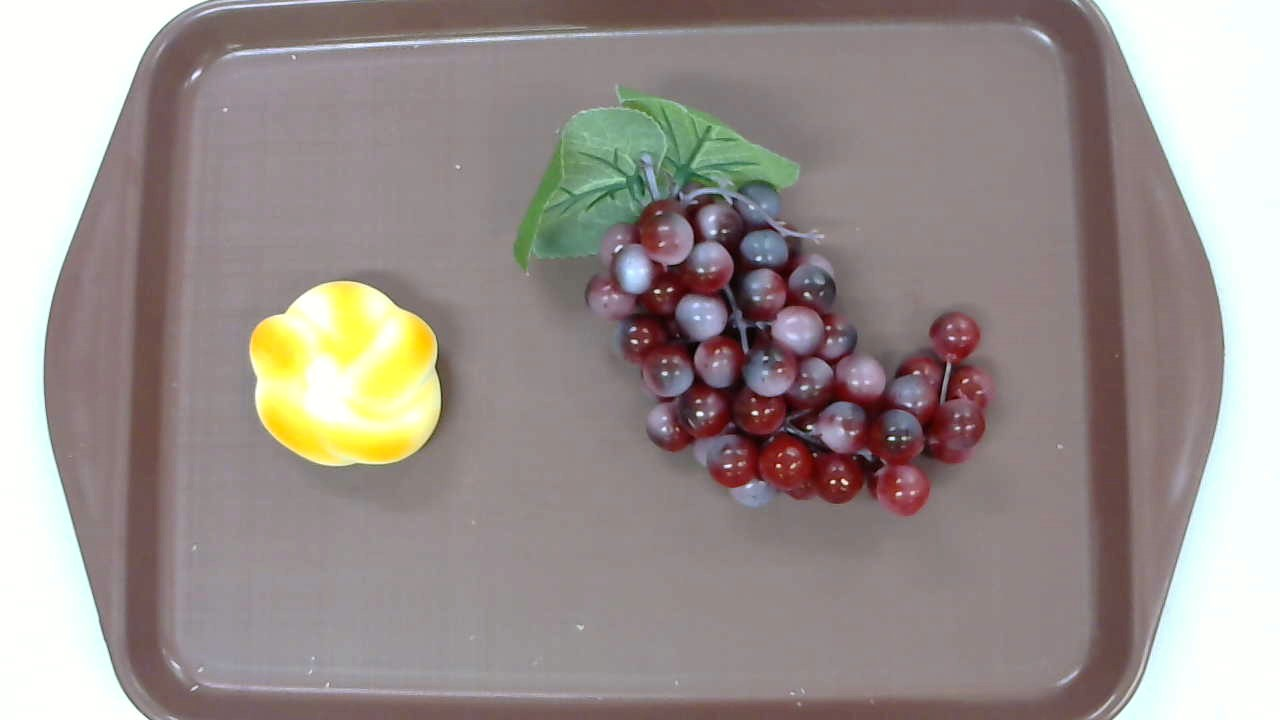grape: (508, 84, 996, 521)
twist bread: (248, 280, 440, 466)
